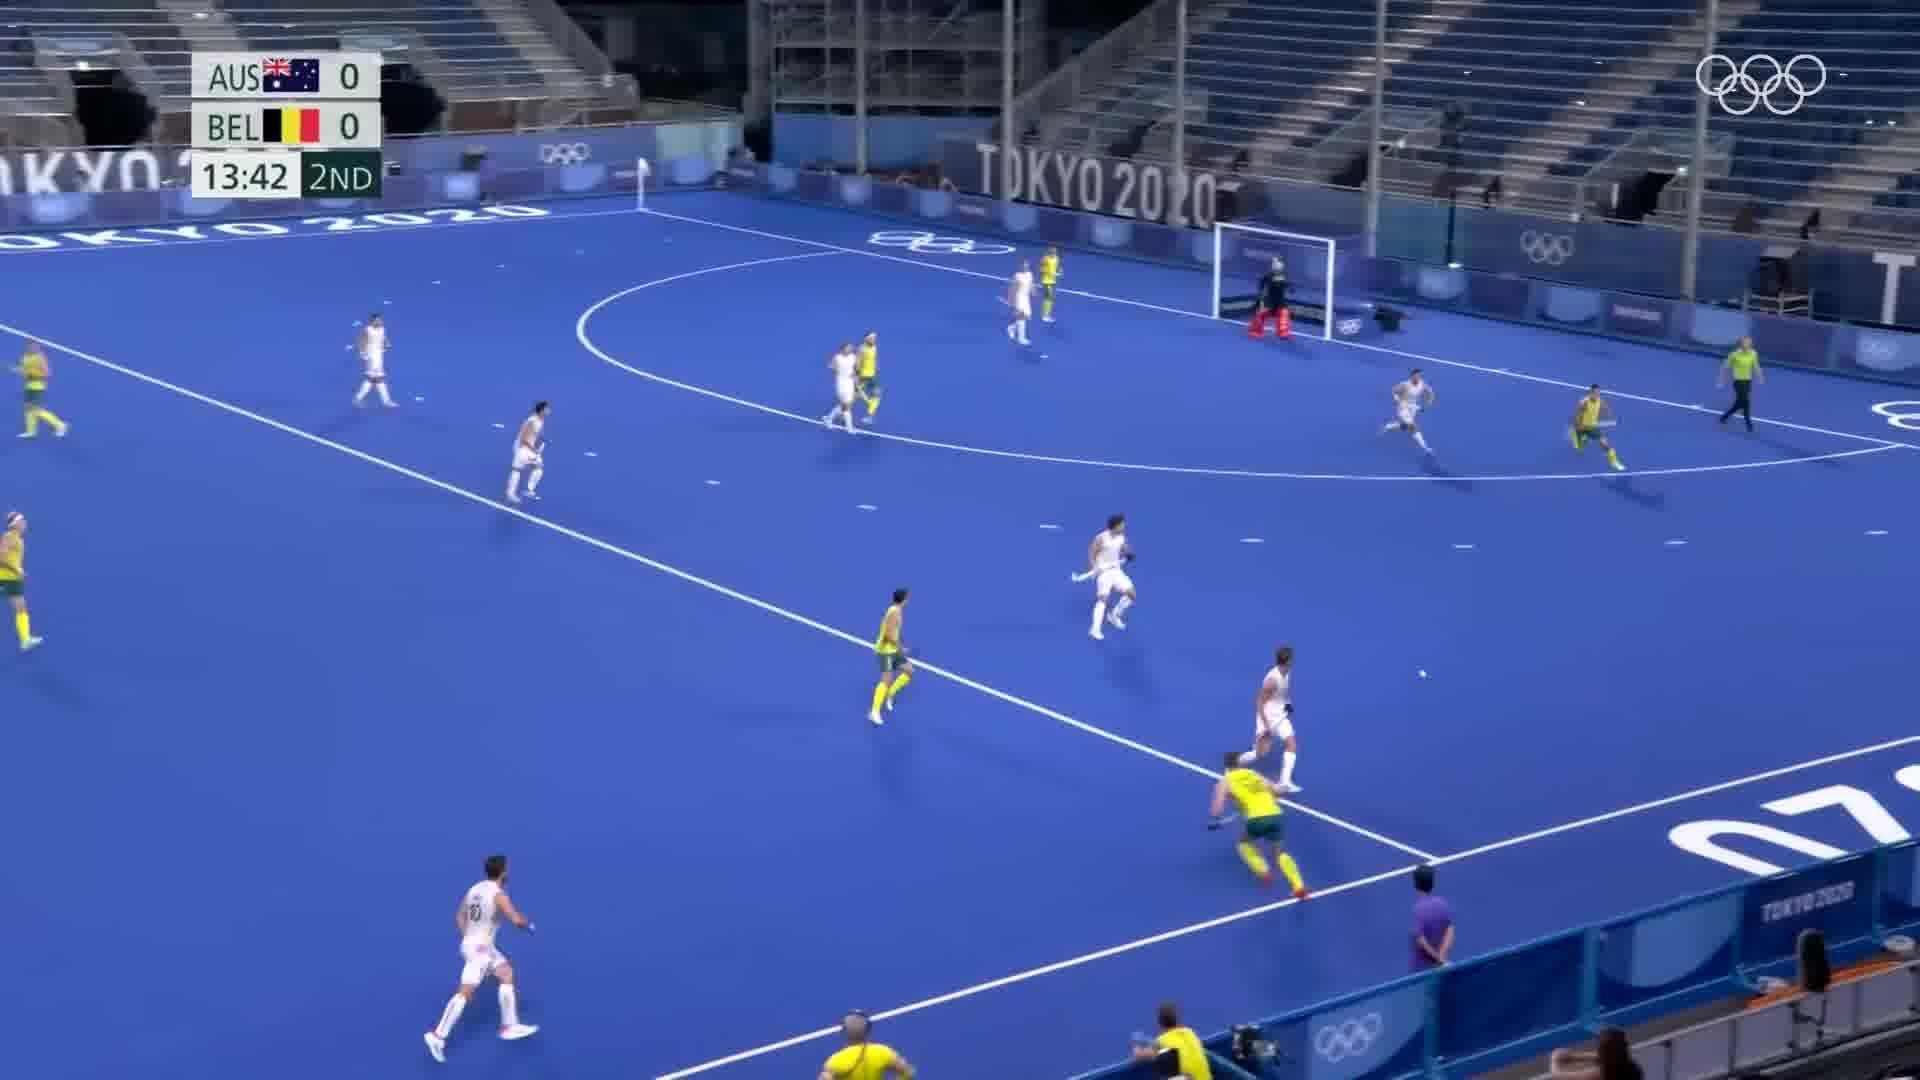ball: (1406, 664, 1439, 688)
